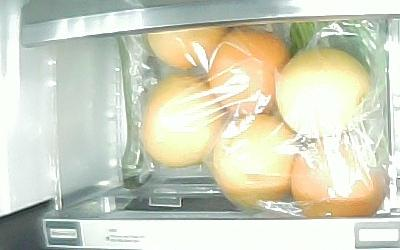grapefruit_vinyl: (278, 46, 373, 139), (291, 139, 389, 219), (211, 113, 296, 204), (138, 75, 220, 166), (211, 29, 292, 119), (147, 27, 227, 69)
